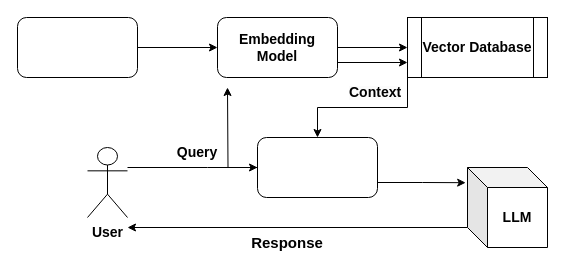
Some shapes in this 565 by 275 pixel diagram are drawn without their labels. Each missing label, with the centre of its shape:
"Document" belongs at [77,47].
"Query with Context" belongs at [317,167].
